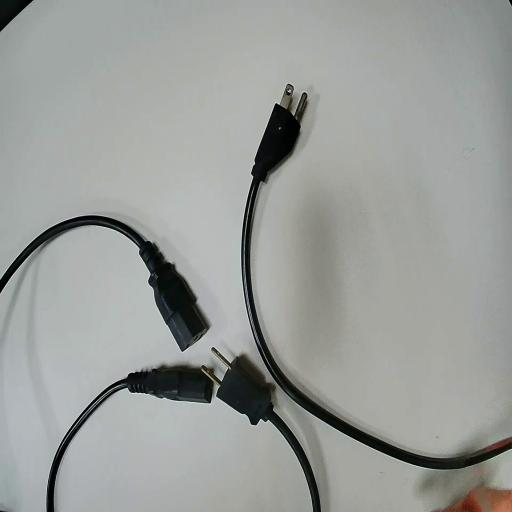wire: (244, 99, 511, 468), (0, 216, 207, 348), (47, 366, 212, 511), (202, 357, 320, 511)
